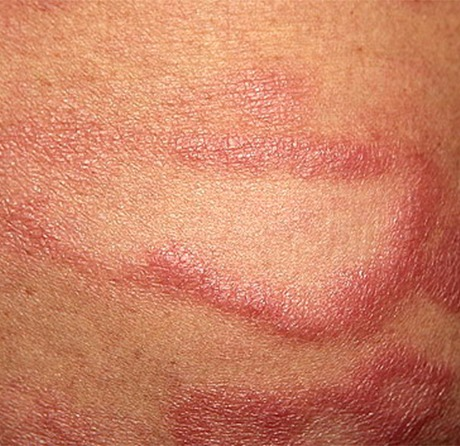Leprosy: (18, 78, 459, 343), (157, 361, 459, 445)
